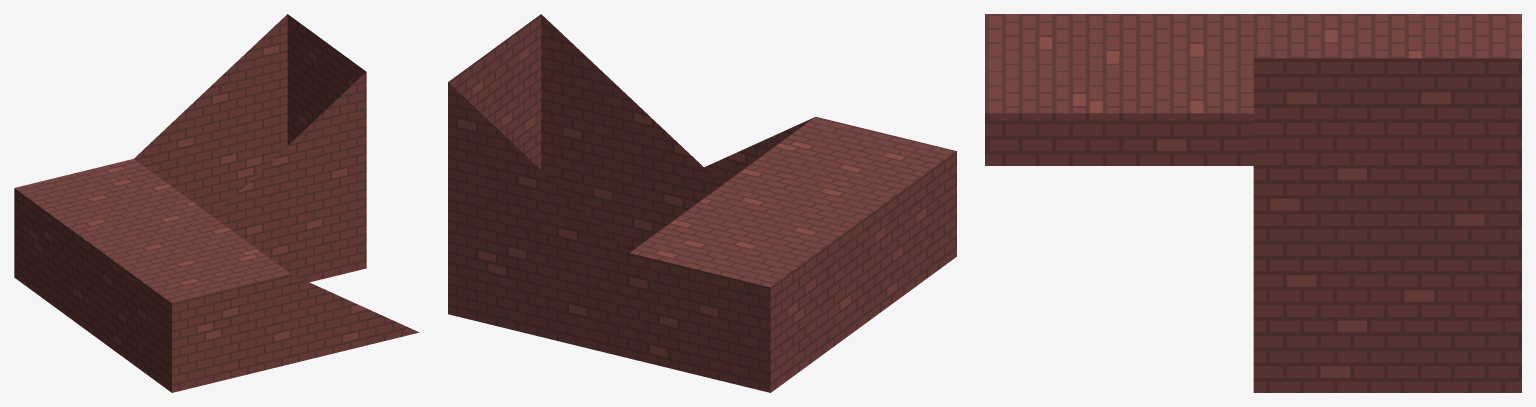
Rendered from SM_StairsU_01_blind.glb.
3 views of the same model, side by side, from view 1: azimuth 30°, elevation 25°; view 2: azimuth 150°, elevation 25°; view 3: azimuth 270°, elevation 25° (orthographic). The views are drawn at different scales.
Parts seen in each view (by area): view 1: SM_StairsU_01_blind; view 2: SM_StairsU_01_blind; view 3: SM_StairsU_01_blind.
Part boxes in pixels (x1,y1,x2,y2): SM_StairsU_01_blind: (14, 14, 419, 392); SM_StairsU_01_blind: (448, 14, 956, 392); SM_StairsU_01_blind: (985, 14, 1521, 392).
Size of the model in its own units: 4 by 2.75 by 4.
Materials: 1 (1 with a texture image).
